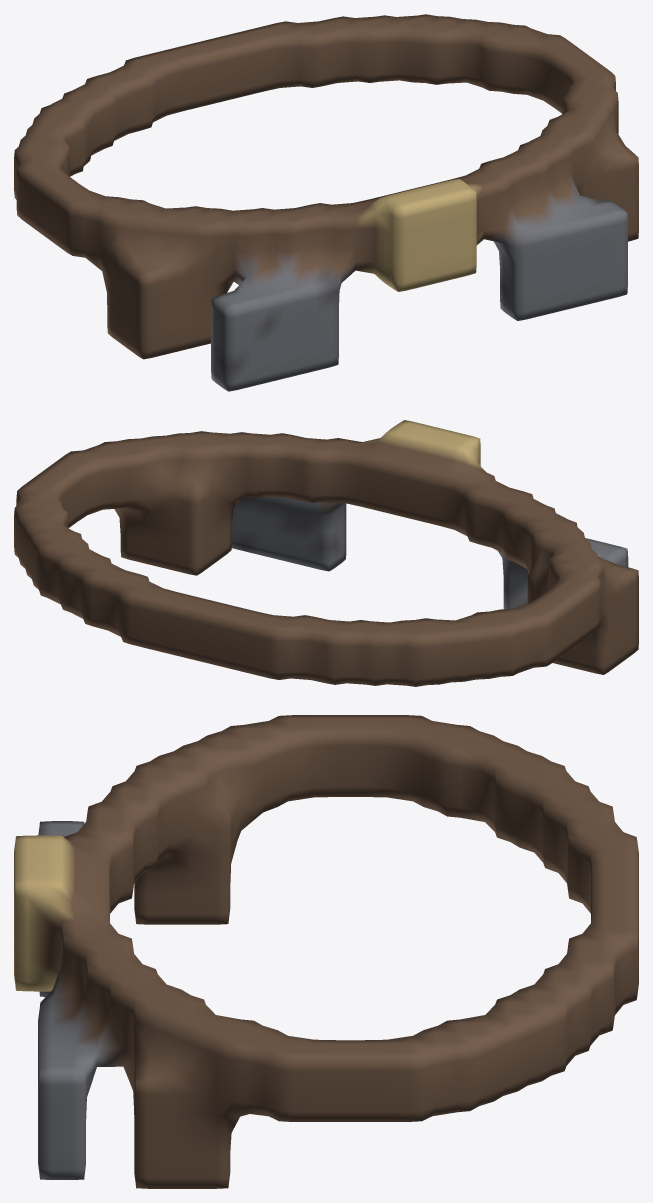
File: plate_rare_belt.glb
3 renders of one model, top to bottom at view 1: azimuth 30°, elevation 25°; view 2: azimuth 150°, elevation 25°; view 3: azimuth 270°, elevation 25°, orthographic. The views are drawn at different scales.
Visible parts, largest first — view 1: plate_rare_belt; view 2: plate_rare_belt; view 3: plate_rare_belt.
Boxes of the visible parts, x1=… form: plate_rare_belt: x1=14, y1=14, x2=638, y2=391; plate_rare_belt: x1=14, y1=420, x2=638, y2=686; plate_rare_belt: x1=14, y1=715, x2=638, y2=1188.
Bounding box in the file's own units: 0.408 × 0.108 × 0.312.
